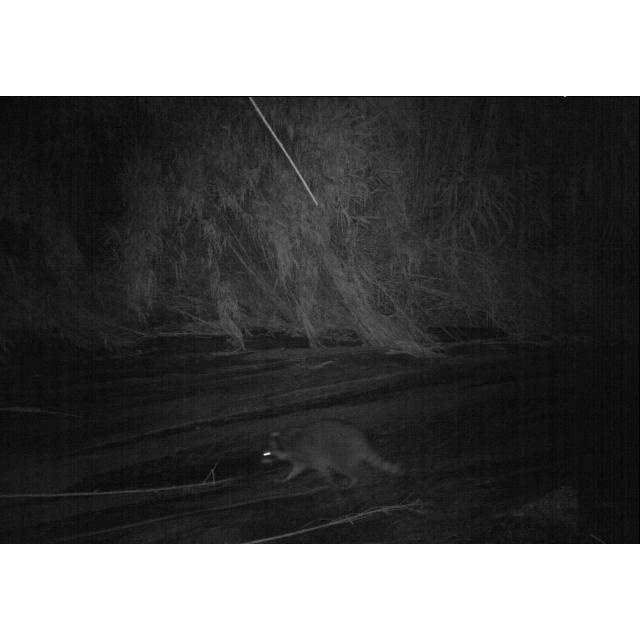animals: (258, 413, 407, 493)
